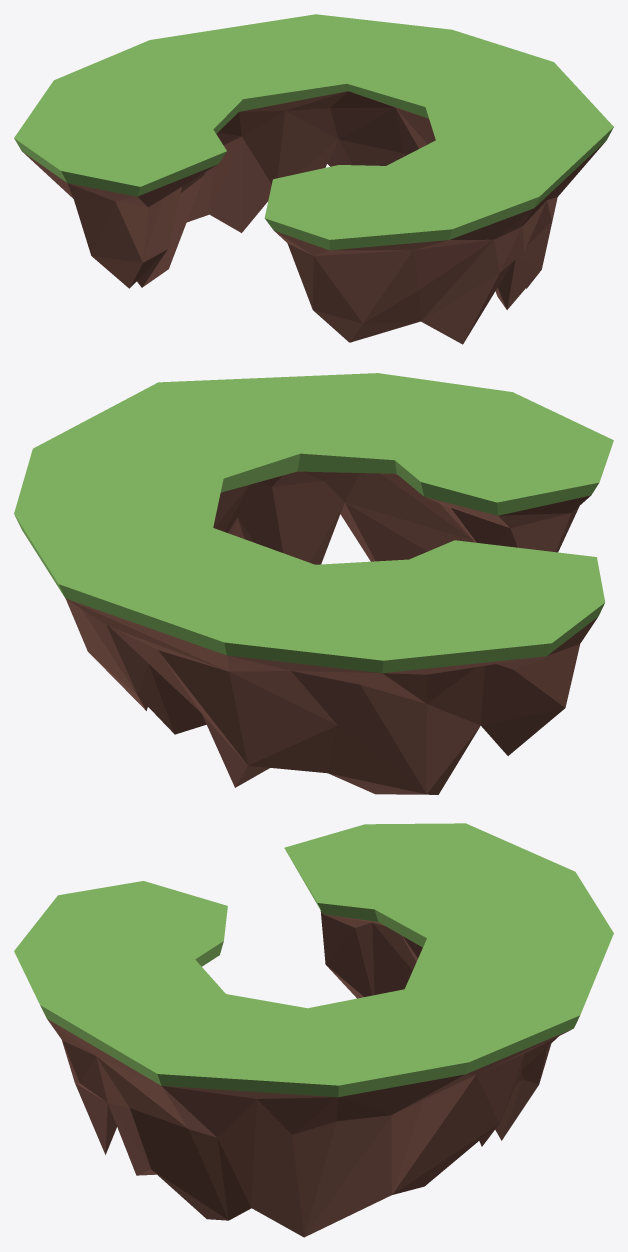
File: Island6.fbx
3 views of the same model, one above another, from view 1: azimuth 30°, elevation 25°; view 2: azimuth 150°, elevation 25°; view 3: azimuth 270°, elevation 25° (orthographic). The views are drawn at different scales.
Parts seen in each view (by area): view 1: Island6; view 2: Island6; view 3: Island6.
Boxes of the visible parts, bbox=[...] form: Island6: bbox=[14, 14, 613, 344]; Island6: bbox=[14, 373, 613, 794]; Island6: bbox=[14, 823, 613, 1237].
Bounding box in the file's own units: 6.15 × 2.03 × 5.95.
